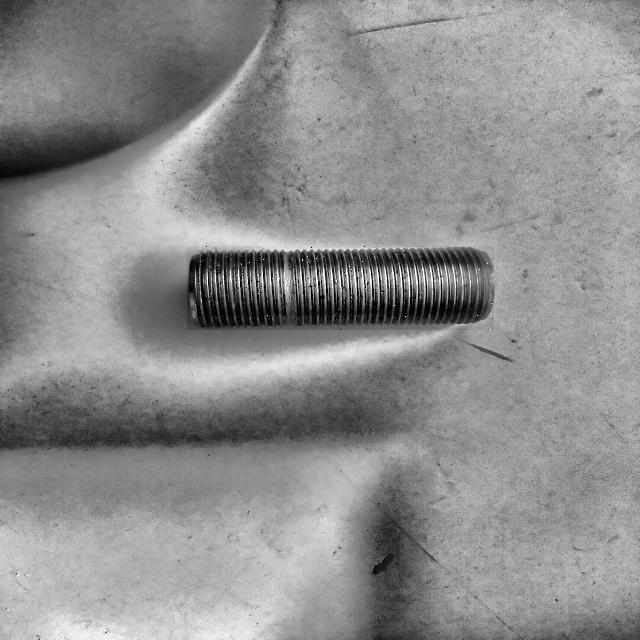Broken: (187, 246, 494, 330)
